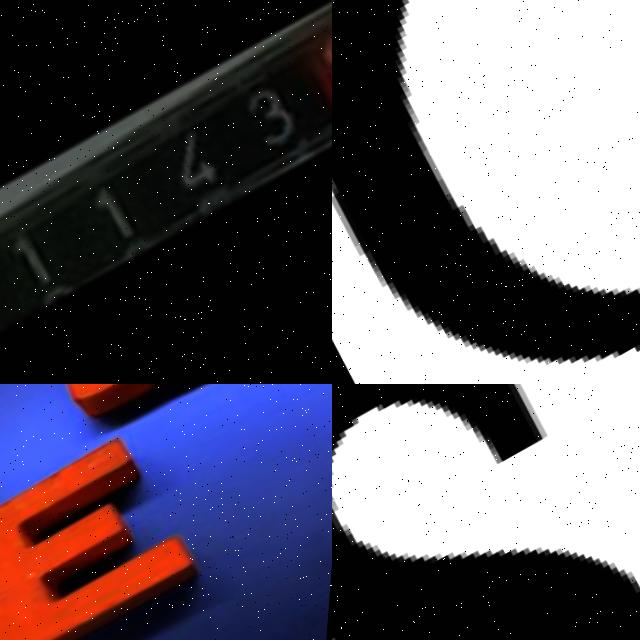1: (1, 220, 66, 293), (84, 175, 149, 248)
3: (233, 75, 307, 155)
4: (161, 122, 234, 197)
8: (310, 19, 332, 95)
C: (332, 0, 640, 361)
E: (0, 421, 222, 640)
S: (332, 384, 640, 640)
W: (16, 384, 279, 437)
